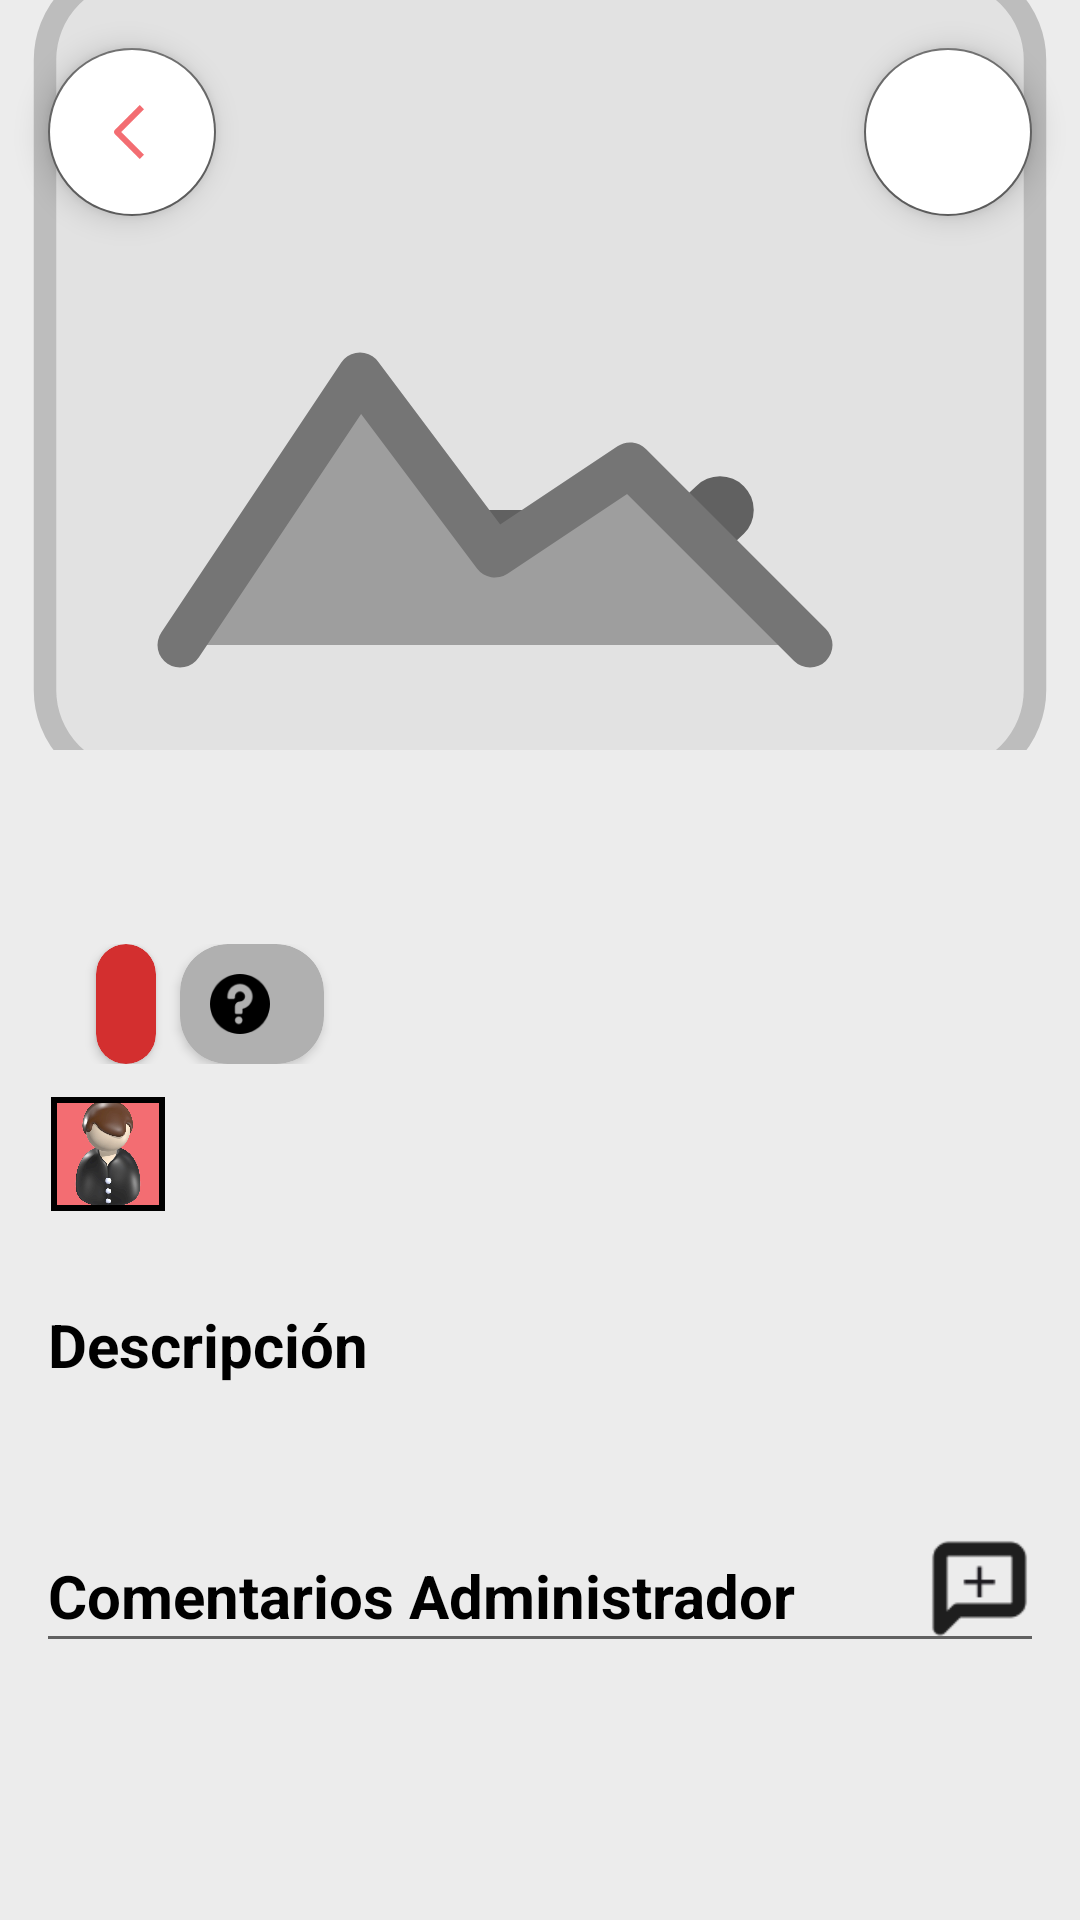

Icons on this 1080w x 1920h Android screen, each with the point to tap as [x,y]:
details add comment: [979,1590]
flecha: [132,132]
